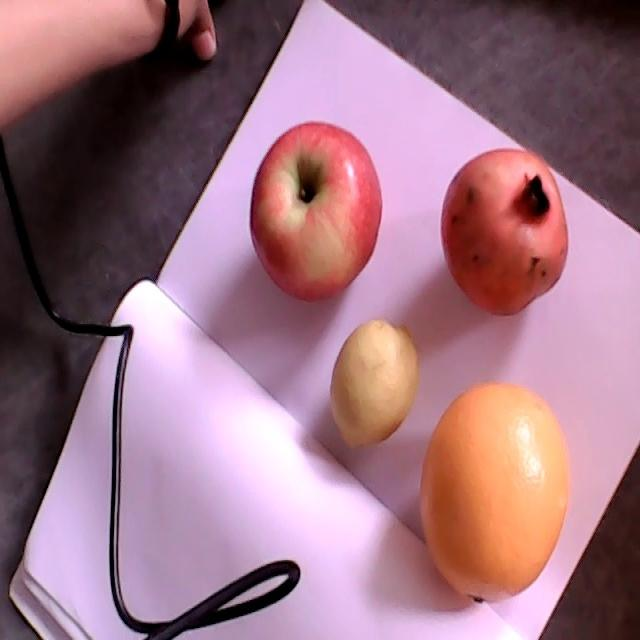apple: (250, 122, 382, 304)
lemon: (328, 320, 418, 453)
orange: (420, 381, 568, 609)
pomegranate: (440, 149, 567, 318)
